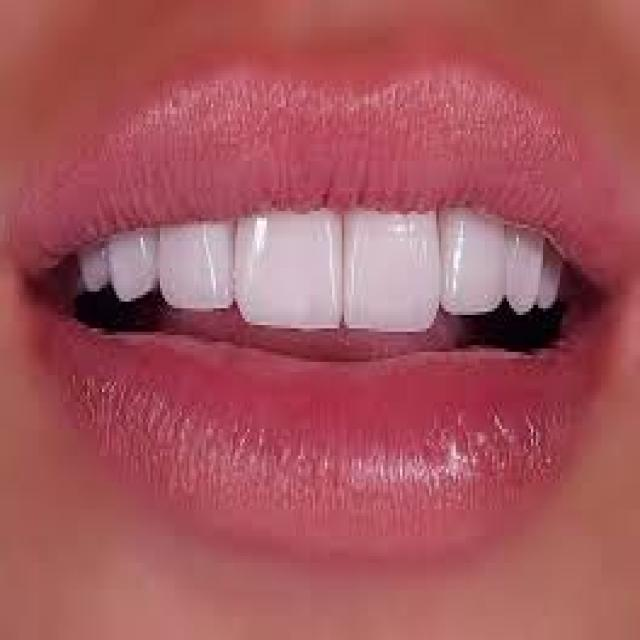tooth: (240, 222, 339, 328), (346, 214, 438, 328), (446, 218, 507, 318), (165, 224, 233, 308), (114, 234, 155, 295), (512, 238, 540, 312), (78, 244, 109, 295), (545, 248, 560, 308)
